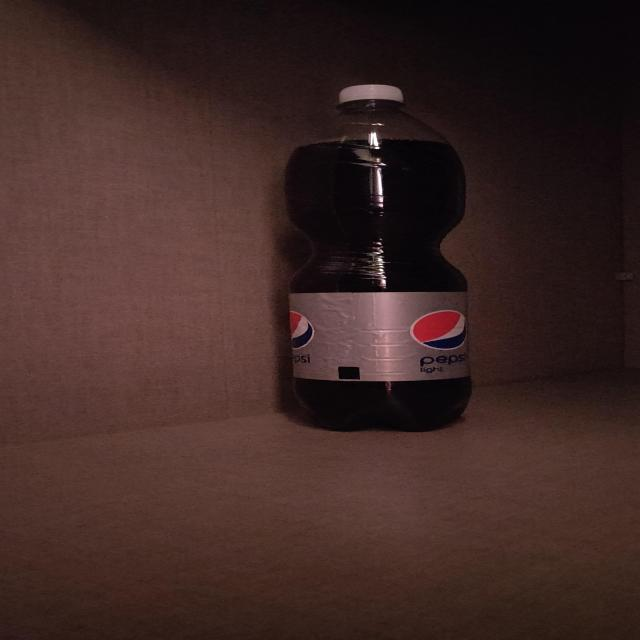bottle-plastic: (274, 83, 480, 436)
